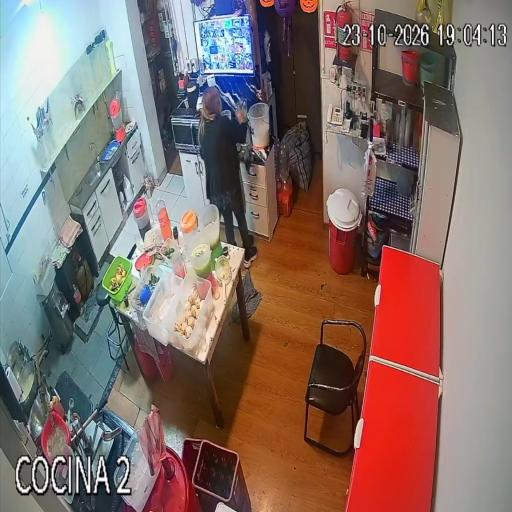Balde: (248, 102, 270, 149)
Cernidor: (215, 255, 231, 304)
Envase Llajua: (52, 394, 64, 418)
Jarra1: (134, 197, 150, 238)
Jarra2: (181, 210, 198, 255)
Jarra3: (199, 204, 222, 267)
Jarra4: (190, 239, 211, 278)
Licuadora2: (237, 99, 251, 147)
Microondas: (171, 115, 199, 153)
Persona2: (200, 88, 257, 266)
Taper: (102, 256, 131, 301)
Taper2: (131, 265, 162, 325)
Taper3: (143, 273, 183, 347)
Taper4: (160, 274, 213, 354)
Taper5: (114, 430, 158, 512)
